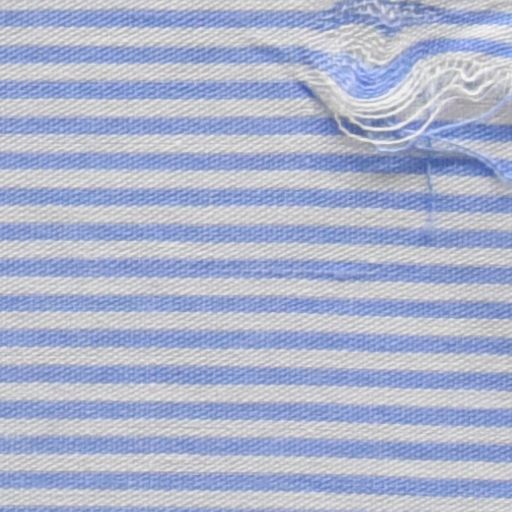defect: (263, 1, 512, 239)
